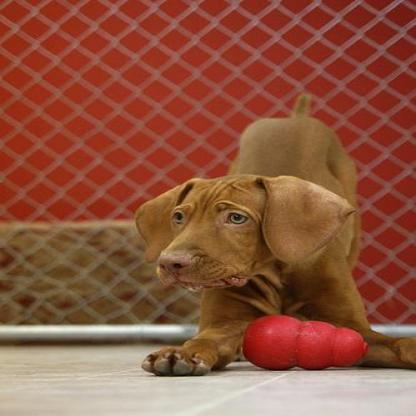vizsla: (134, 93, 412, 374)
